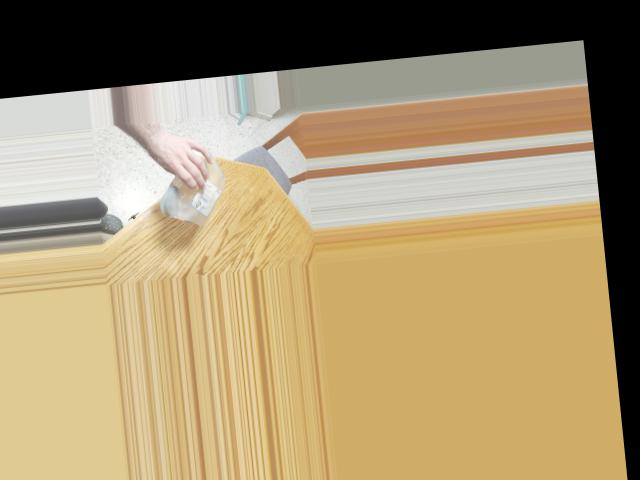cheese: (158, 141, 231, 226)
